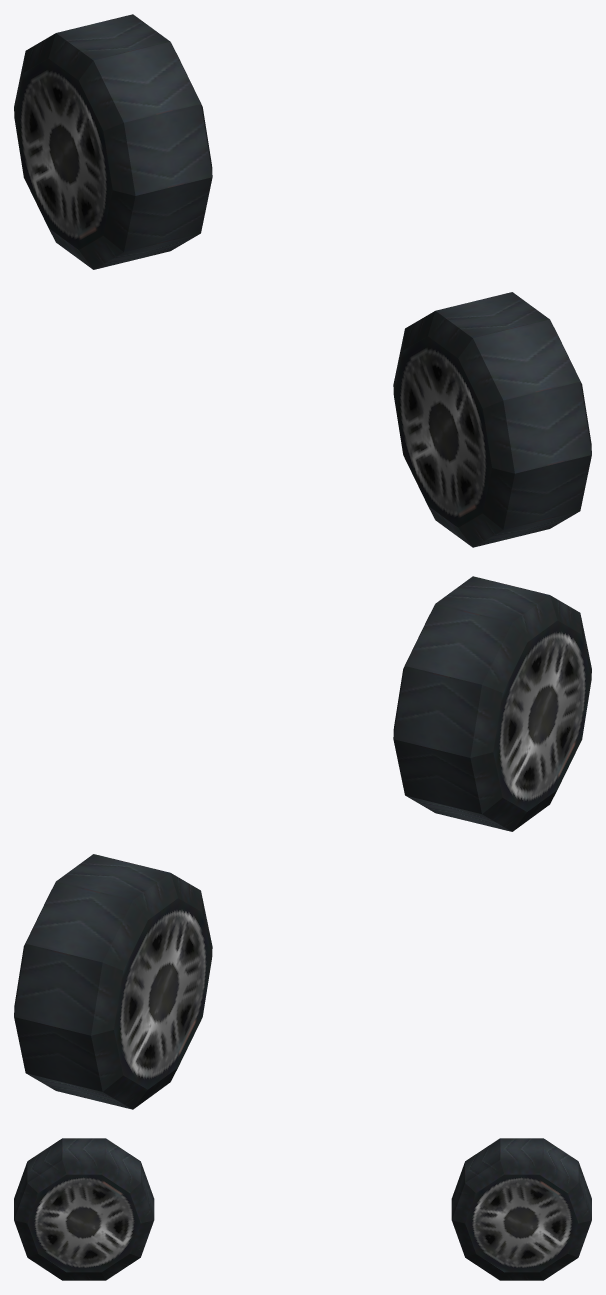
Rendered from Bike 4 Wheels.glb.
The picture shows the model from 3 angles, top to bottom: view 1: azimuth 30°, elevation 25°; view 2: azimuth 150°, elevation 25°; view 3: azimuth 270°, elevation 25°; orthographic projection. The views are drawn at different scales.
Visible parts, largest first — view 1: front_wheel, back_wheel; view 2: front_wheel, back_wheel; view 3: back_wheel, front_wheel.
Boxes of the visible parts, left/top/right/bottom form: front_wheel: left=393, top=292, right=591, bottom=547; back_wheel: left=14, top=14, right=212, bottom=269; front_wheel: left=393, top=576, right=591, bottom=831; back_wheel: left=14, top=854, right=212, bottom=1109; back_wheel: left=451, top=1138, right=591, bottom=1280; front_wheel: left=14, top=1138, right=154, bottom=1280.
Size of the model in its own units: 0.5023 by 1.01 by 4.38.
Materials: 1 (1 with a texture image).
